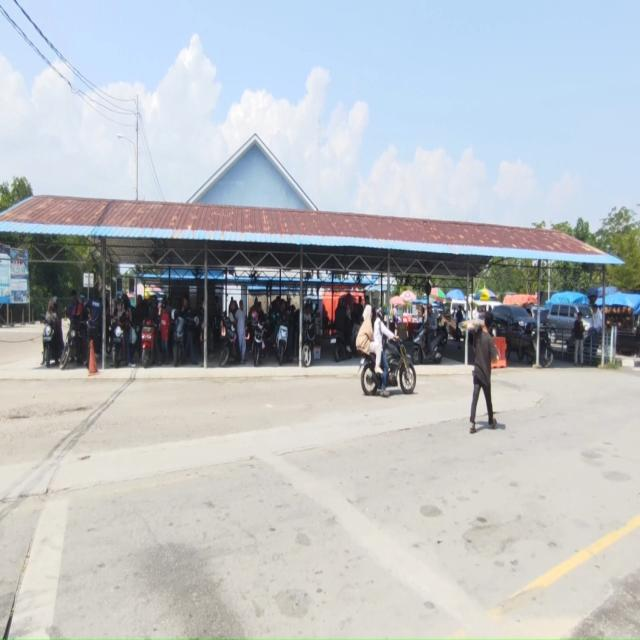Golongan II: (361, 340, 416, 396), (516, 325, 554, 368), (172, 310, 200, 367), (412, 324, 447, 364), (330, 321, 362, 362), (220, 315, 244, 367), (59, 323, 84, 370), (42, 318, 59, 368), (110, 317, 126, 368), (330, 330, 355, 362), (141, 318, 157, 368), (302, 319, 316, 367), (252, 319, 264, 366), (276, 323, 289, 365)
